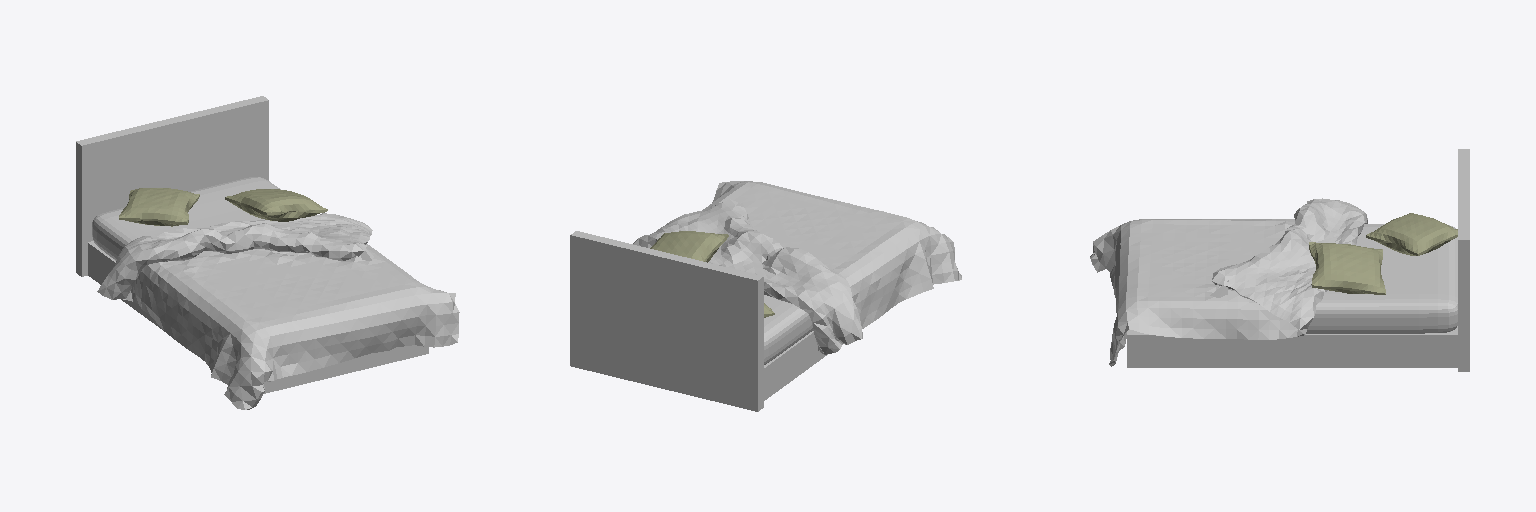
File: Bed.obj
3 renders of one model, left to right at view 1: azimuth 30°, elevation 25°; view 2: azimuth 150°, elevation 25°; view 3: azimuth 270°, elevation 25°, orthographic.
Parts seen in each view (by area): view 1: SurfPatch.001_Mesh, Cube.002, Cube_Cube.001, Cube.001_Cube, Plane, Plane.001; view 2: Cube.002, SurfPatch.001_Mesh, Cube_Cube.001, Cube.001_Cube, Plane.001; view 3: SurfPatch.001_Mesh, Cube.001_Cube, Cube_Cube.001, Plane.001, Cube.002, Plane.
Boxes of the visible parts, x1=… form: SurfPatch.001_Mesh: x1=97, y1=213, x2=459, y2=409; Cube.002: x1=76, y1=96, x2=268, y2=276; Cube_Cube.001: x1=92, y1=177, x2=280, y2=260; Cube.001_Cube: x1=88, y1=241, x2=428, y2=393; Plane: x1=119, y1=188, x2=199, y2=226; Plane.001: x1=225, y1=189, x2=327, y2=221; Cube.002: x1=570, y1=231, x2=763, y2=411; SurfPatch.001_Mesh: x1=633, y1=181, x2=961, y2=354; Cube_Cube.001: x1=764, y1=295, x2=812, y2=364; Cube.001_Cube: x1=764, y1=328, x2=863, y2=400; Plane.001: x1=650, y1=231, x2=728, y2=262; SurfPatch.001_Mesh: x1=1090, y1=198, x2=1367, y2=366; Cube.001_Cube: x1=1127, y1=326, x2=1457, y2=367; Cube_Cube.001: x1=1306, y1=224, x2=1457, y2=333; Plane.001: x1=1309, y1=242, x2=1385, y2=294; Cube.002: x1=1458, y1=149, x2=1469, y2=371; Plane: x1=1366, y1=213, x2=1457, y2=255.
Bounding box in the file's own units: 6.4 × 3.17 × 8.34.